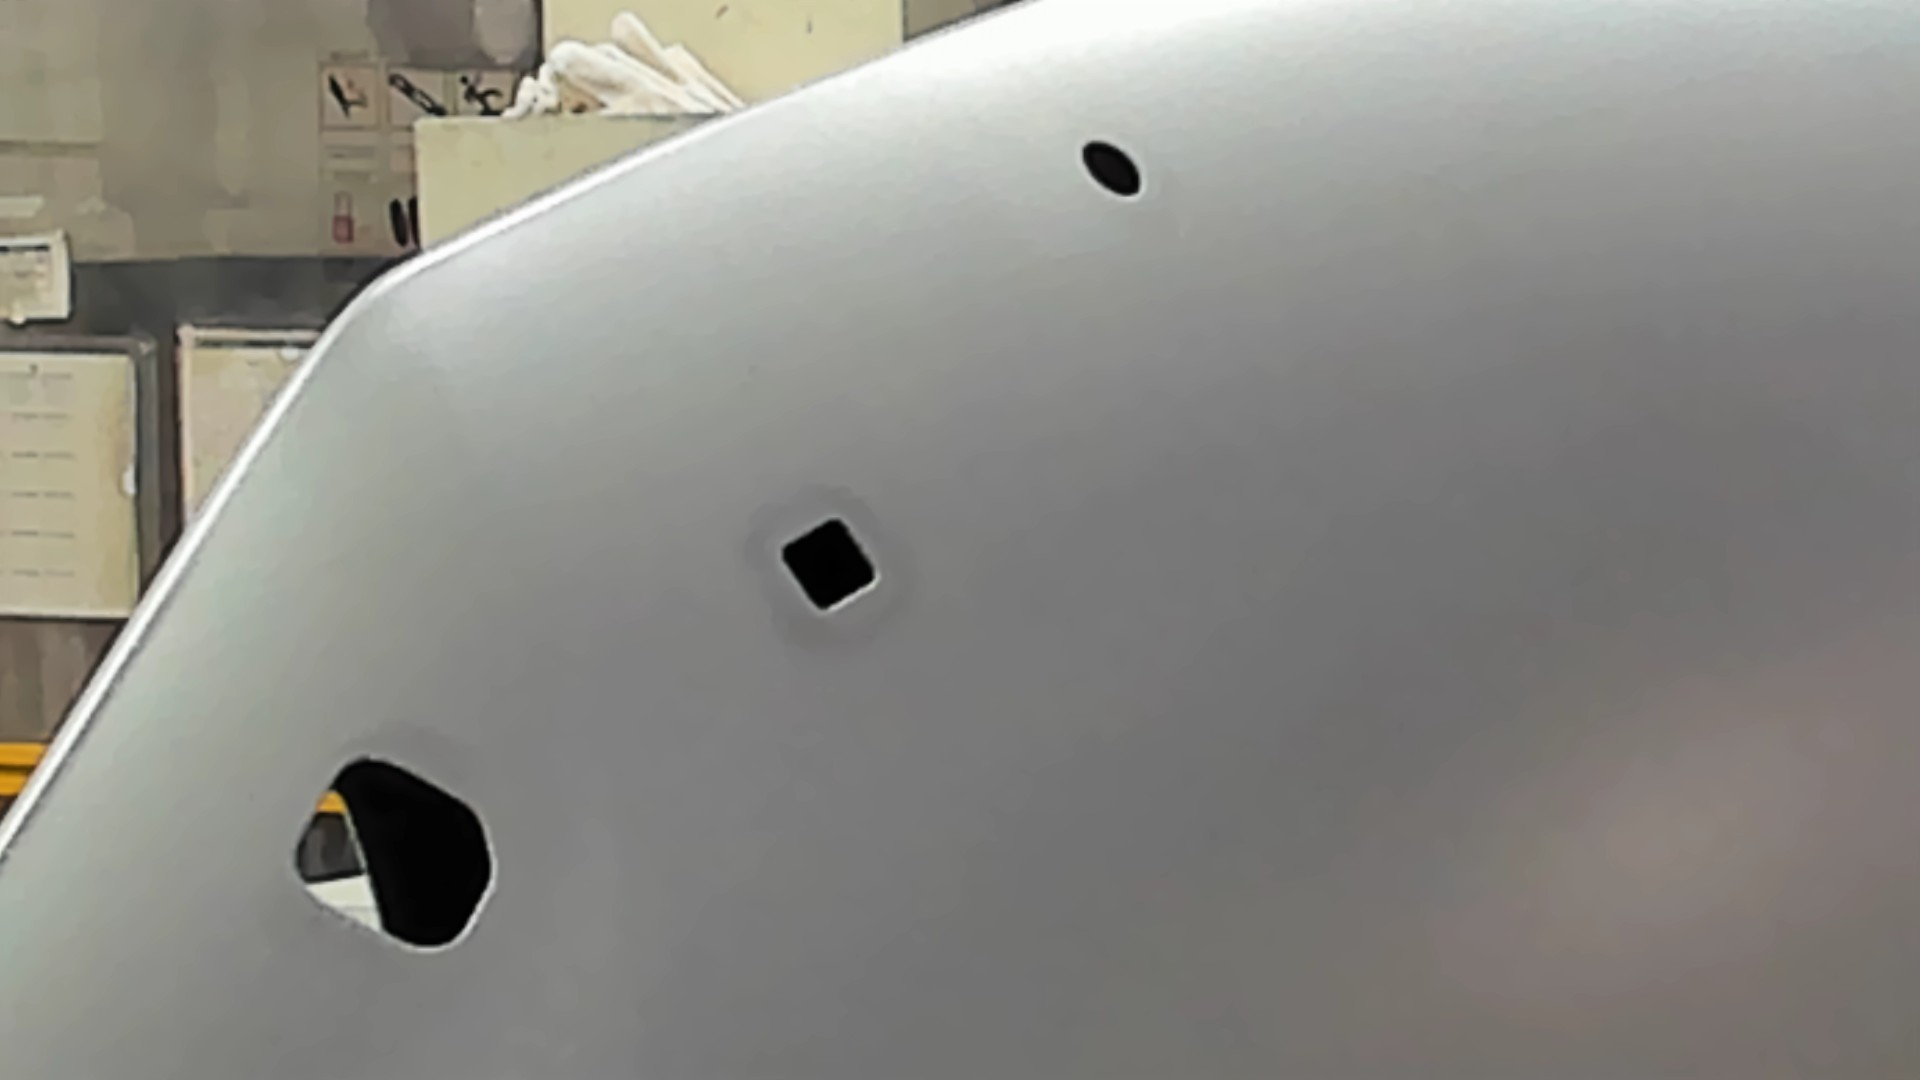capo: (884, 207, 1920, 1080)
chico: (1075, 133, 1150, 203)
grande: (287, 750, 501, 961)
mediano: (771, 508, 887, 622)
